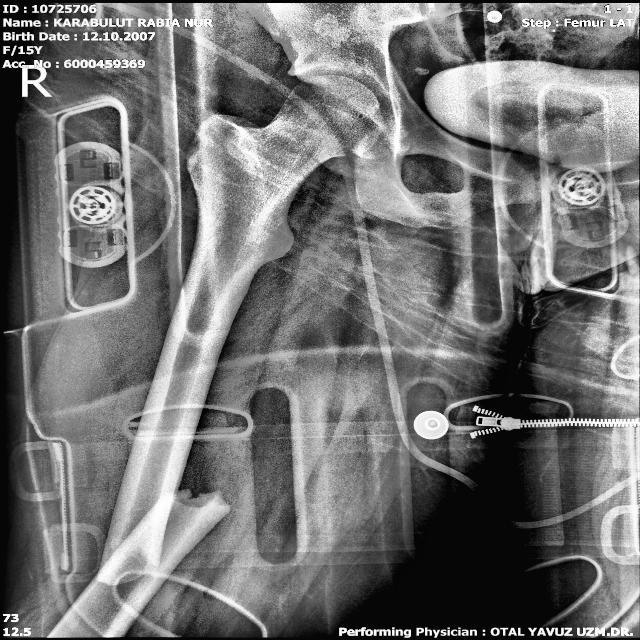Fracture: (92, 471, 234, 595)
